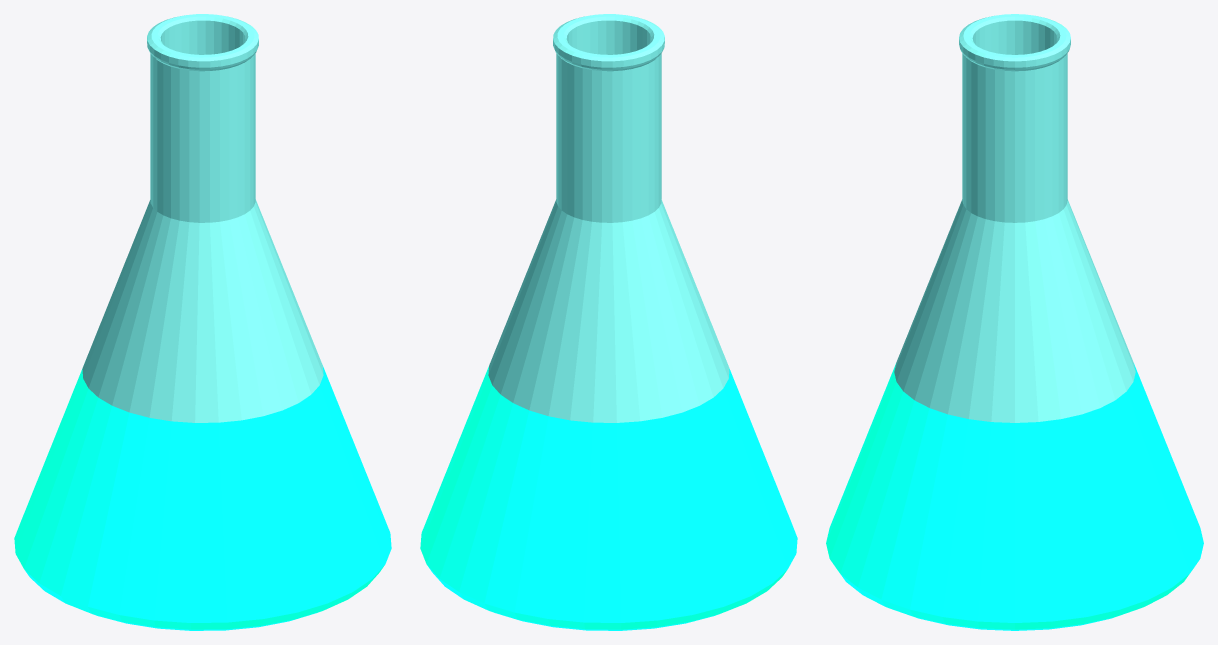
File: testtubegreen.fbx
3 views of the same model, side by side, from view 1: azimuth 30°, elevation 25°; view 2: azimuth 150°, elevation 25°; view 3: azimuth 270°, elevation 25° (orthographic).
Parts seen in each view (by area): view 1: Cylinder; view 2: Cylinder; view 3: Cylinder.
Part boxes in pixels (bbox=[...]): Cylinder: bbox=[14, 14, 391, 630]; Cylinder: bbox=[420, 14, 797, 630]; Cylinder: bbox=[826, 14, 1203, 630].
Bounding box in the file's own units: 200 × 305 × 200.
